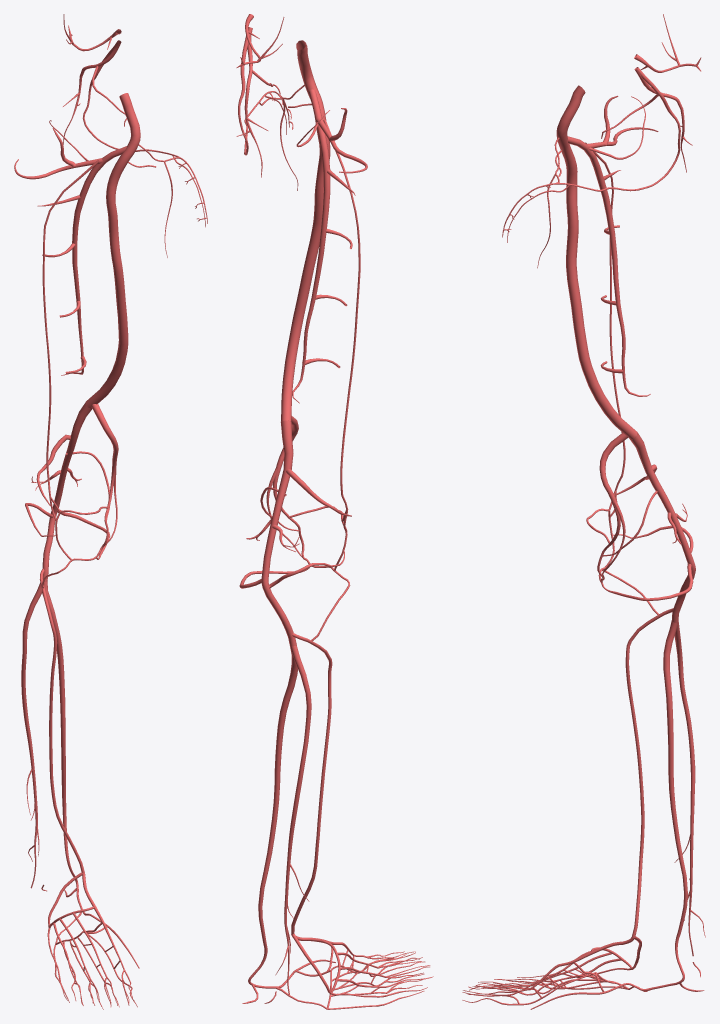
The model's file is arteries.glb.
3 views of the same model, side by side, from view 1: azimuth 30°, elevation 25°; view 2: azimuth 150°, elevation 25°; view 3: azimuth 270°, elevation 25° (orthographic). The views are drawn at different scales.
Parts seen in each view (by area): view 1: Femoral artery.r.001, Posterior tibial artery.r.001, Fibular artery.r.001, Deep femoral artery.r.001, Popliteal artery.r.001, Anterior tibial artery.r.001, Superior medial genicular artery.r.001, Descending branch of lateral circumflex femoral artery.001, Patellar anastomosis.r.001, Dorsal metatarsal arteries.r.001, Lateral circumflex femoral artery.r.001, Dorsal digital arteries of foot.r.001; view 2: Femoral artery.r.001, Posterior tibial artery.r.001, Popliteal artery.r.001, Fibular artery.r.001, Deep femoral artery.r.001, Anterior tibial artery.r.001, Descending branch of lateral circumflex femoral artery.001, Superior medial genicular artery.r.001, Patellar anastomosis.r.001, Proper plantar digital arteries.r.001, Dorsal digital arteries of foot.r.001, Lateral circumflex femoral artery.r.001 (+2 smaller); view 3: Femoral artery.r.001, Posterior tibial artery.r.001, Deep femoral artery.r.001, Fibular artery.r.001, Popliteal artery.r.001, Anterior tibial artery.r.001, Superior medial genicular artery.r.001, Patellar anastomosis.r.001, Descending branch of lateral circumflex femoral artery.001, Dorsal digital arteries of foot.r.001, Proper plantar digital arteries.r.001.
Boxes of the visible parts, left/top/right/bottom form: Femoral artery.r.001: left=85, top=93, right=140, bottom=408; Posterior tibial artery.r.001: left=42, top=581, right=82, bottom=908; Fibular artery.r.001: left=21, top=582, right=44, bottom=888; Deep femoral artery.r.001: left=61, top=146, right=126, bottom=375; Popliteal artery.r.001: left=42, top=402, right=92, bottom=581; Anterior tibial artery.r.001: left=39, top=568, right=84, bottom=873; Superior medial genicular artery.r.001: left=66, top=404, right=118, bottom=546; Descending branch of lateral circumflex femoral artery.001: left=42, top=160, right=99, bottom=479; Patellar anastomosis.r.001: left=41, top=479, right=109, bottom=588; Dorsal metatarsal arteries.r.001: left=53, top=912, right=124, bottom=979; Lateral circumflex femoral artery.r.001: left=14, top=128, right=103, bottom=179; Dorsal digital arteries of foot.r.001: left=47, top=928, right=134, bottom=1006; Femoral artery.r.001: left=281, top=40, right=330, bottom=421; Posterior tibial artery.r.001: left=248, top=645, right=297, bottom=988; Popliteal artery.r.001: left=261, top=420, right=296, bottom=646; Fibular artery.r.001: left=275, top=645, right=311, bottom=994; Deep femoral artery.r.001: left=292, top=89, right=330, bottom=403; Anterior tibial artery.r.001: left=291, top=633, right=332, bottom=934; Descending branch of lateral circumflex femoral artery.001: left=323, top=119, right=360, bottom=496; Superior medial genicular artery.r.001: left=260, top=416, right=302, bottom=557; Patellar anastomosis.r.001: left=288, top=496, right=350, bottom=641; Proper plantar digital arteries.r.001: left=327, top=953, right=433, bottom=1009; Dorsal digital arteries of foot.r.001: left=331, top=951, right=430, bottom=997; Lateral circumflex femoral artery.r.001: left=315, top=108, right=367, bottom=173; Femoral artery.r.001: left=556, top=85, right=637, bottom=439; Posterior tibial artery.r.001: left=651, top=620, right=687, bottom=989; Deep femoral artery.r.001: left=567, top=136, right=650, bottom=396; Fibular artery.r.001: left=674, top=621, right=705, bottom=956; Popliteal artery.r.001: left=630, top=432, right=695, bottom=622; Anterior tibial artery.r.001: left=625, top=608, right=673, bottom=937; Superior medial genicular artery.r.001: left=599, top=432, right=657, bottom=578; Patellar anastomosis.r.001: left=586, top=475, right=658, bottom=614; Descending branch of lateral circumflex femoral artery.001: left=585, top=142, right=625, bottom=476; Dorsal digital arteries of foot.r.001: left=463, top=968, right=632, bottom=995; Proper plantar digital arteries.r.001: left=462, top=979, right=627, bottom=1005.
Bounding box in the file's own units: 0.1435 × 0.9469 × 0.2087.
